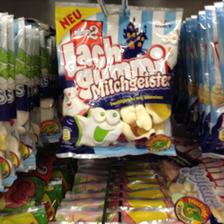Suessigkeit: (51, 1, 185, 163), (0, 19, 40, 188), (191, 2, 223, 154)
